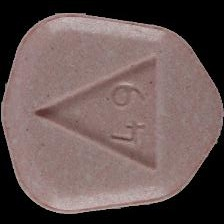61919-654: (0, 0, 224, 224)
